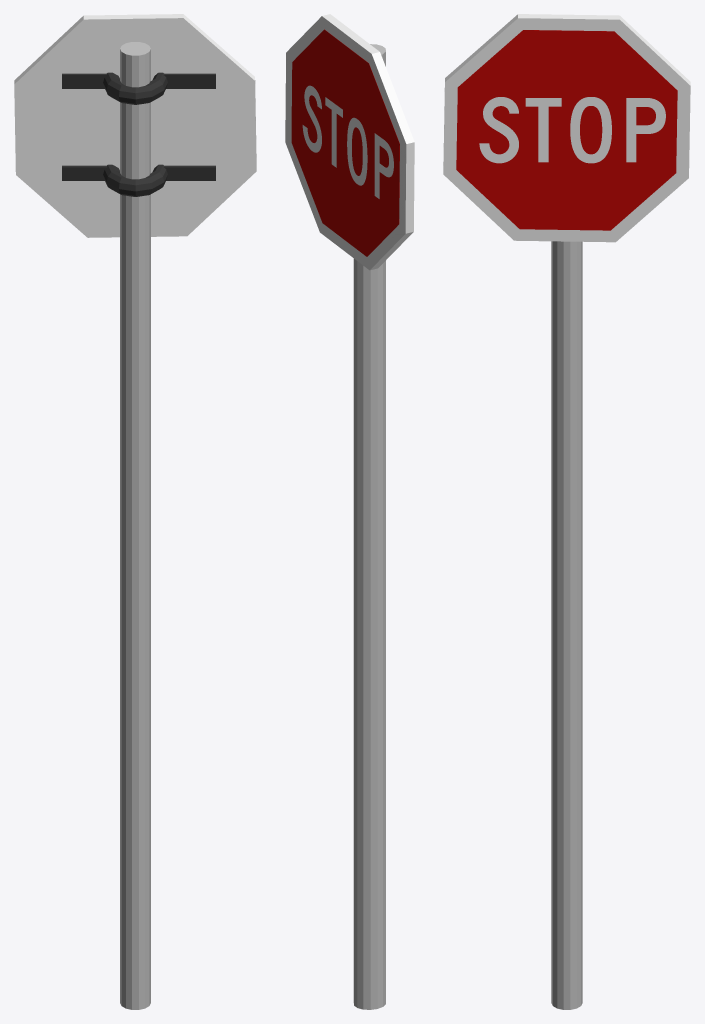
Rendered from Stop_sign.obj.
The picture shows the model from 3 angles, left to right: view 1: azimuth 90°, elevation 25°; view 2: azimuth 210°, elevation 25°; view 3: azimuth 270°, elevation 25°; orthographic projection. The views are drawn at different scales.
Parts seen in each view (by area): view 1: Cylinder.002; view 2: Cylinder.002, STOP; view 3: Cylinder.002, STOP.
Boxes of the visible parts, left/top/right/bottom form: Cylinder.002: left=14, top=14, right=256, bottom=1009; Cylinder.002: left=285, top=14, right=414, bottom=1009; STOP: left=302, top=85, right=393, bottom=198; Cylinder.002: left=443, top=14, right=690, bottom=1009; STOP: left=479, top=97, right=665, bottom=163.
Bounding box in the file's own units: 0.1053 × 2.15 × 0.4836.
